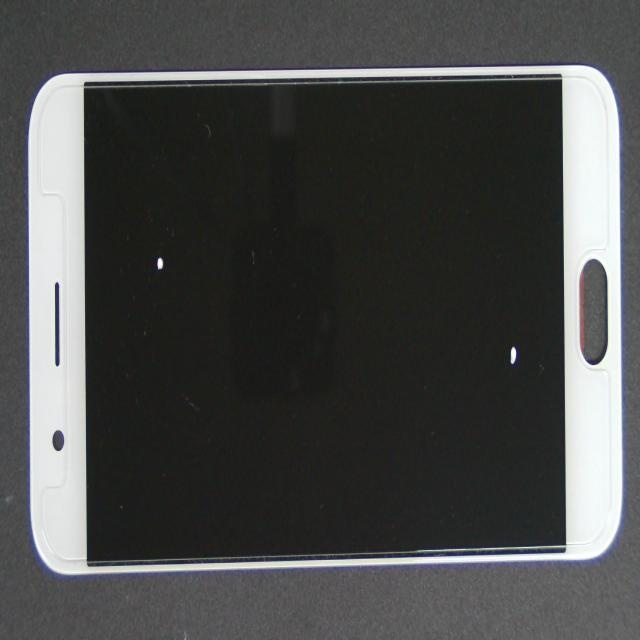stain: (269, 128, 640, 496), (106, 150, 256, 371)
